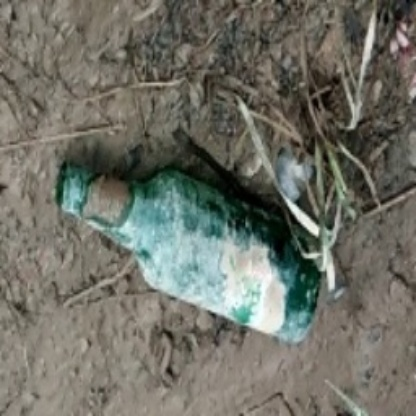bottle: (55, 146, 331, 339)
